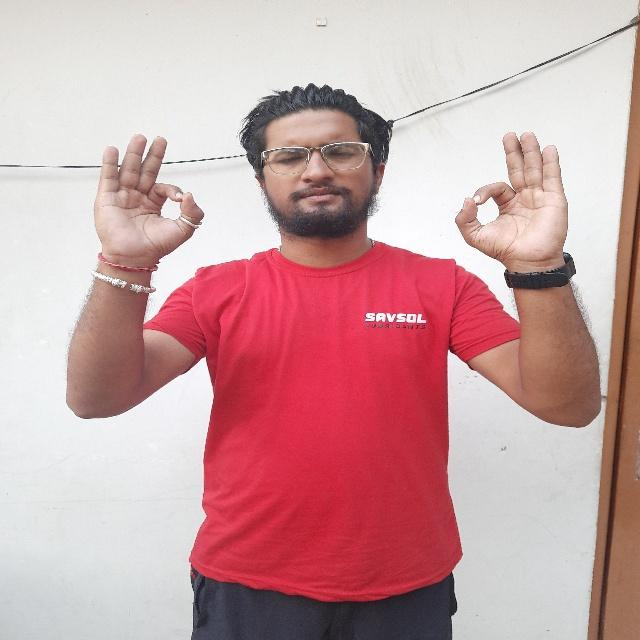Okay: (450, 122, 576, 284), (82, 126, 210, 278)
